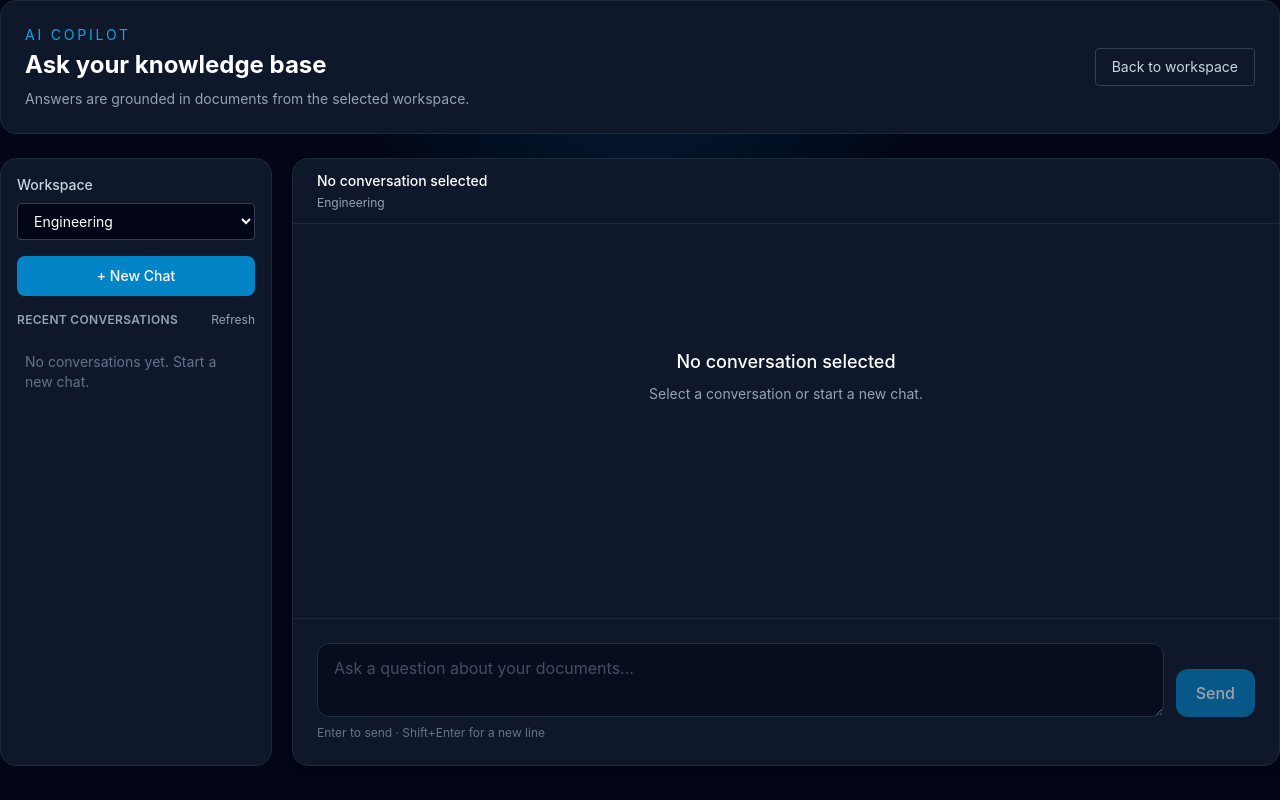
Test case: ChatPage › updates the sidebar title after the first question is answered
Click the button "+ New Chat": (136, 276) [17, 256, 255, 296]
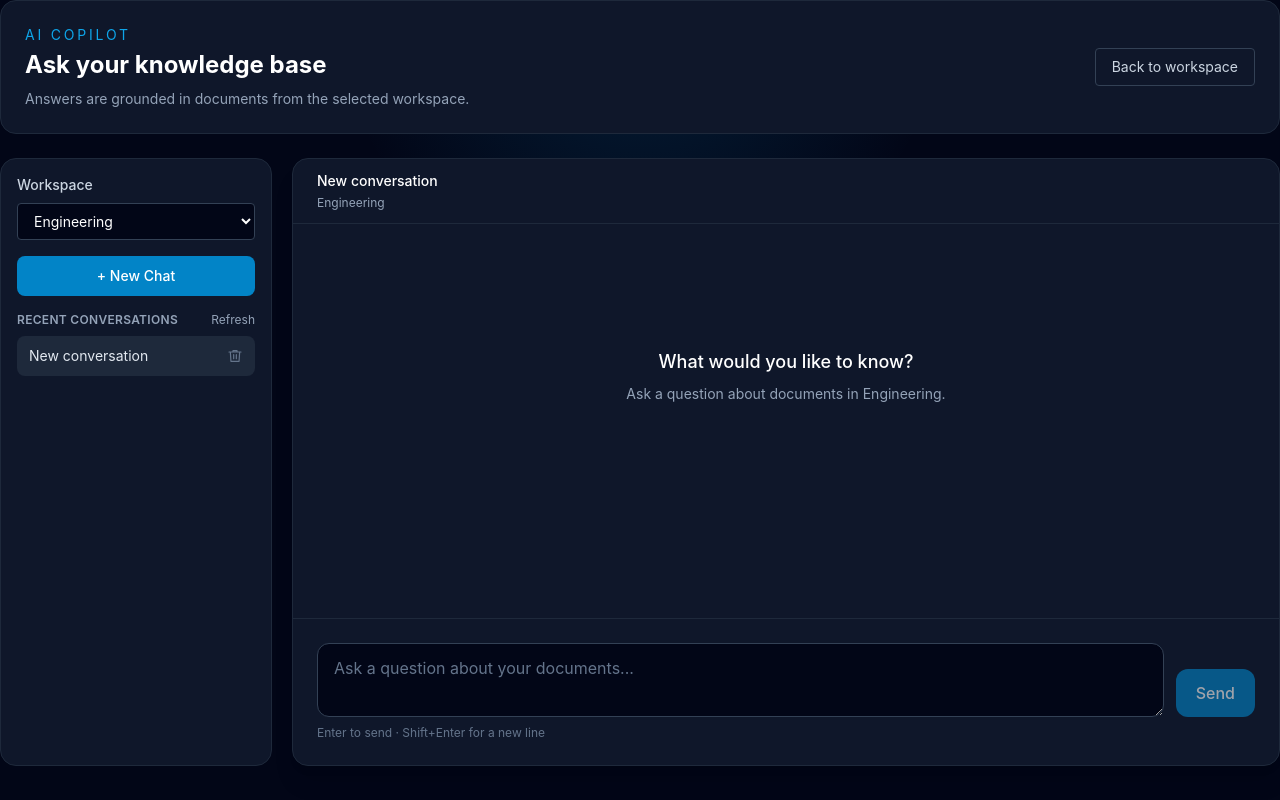
In the text box named "Your question": (740, 680) [317, 643, 1164, 717], type "Give me all the JS questions"
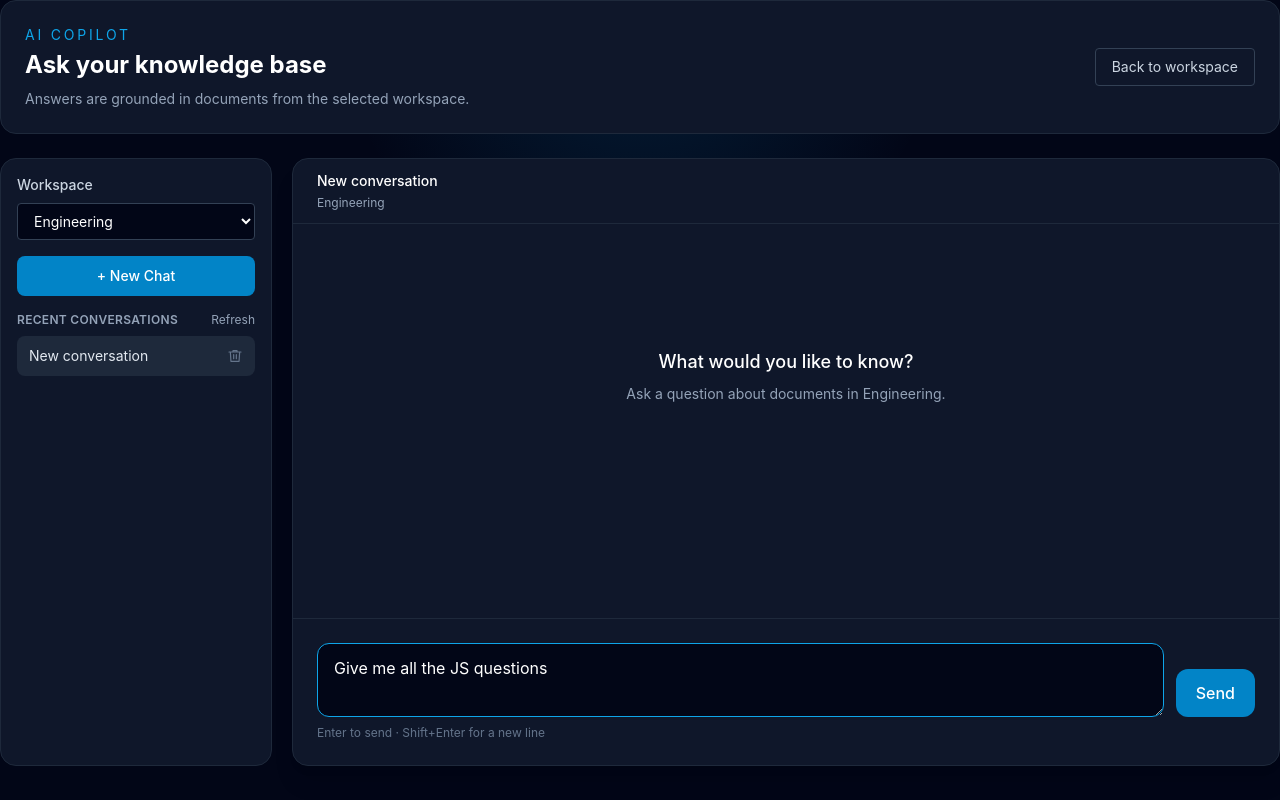
Click the button "Send": (1215, 693) [1176, 669, 1255, 717]
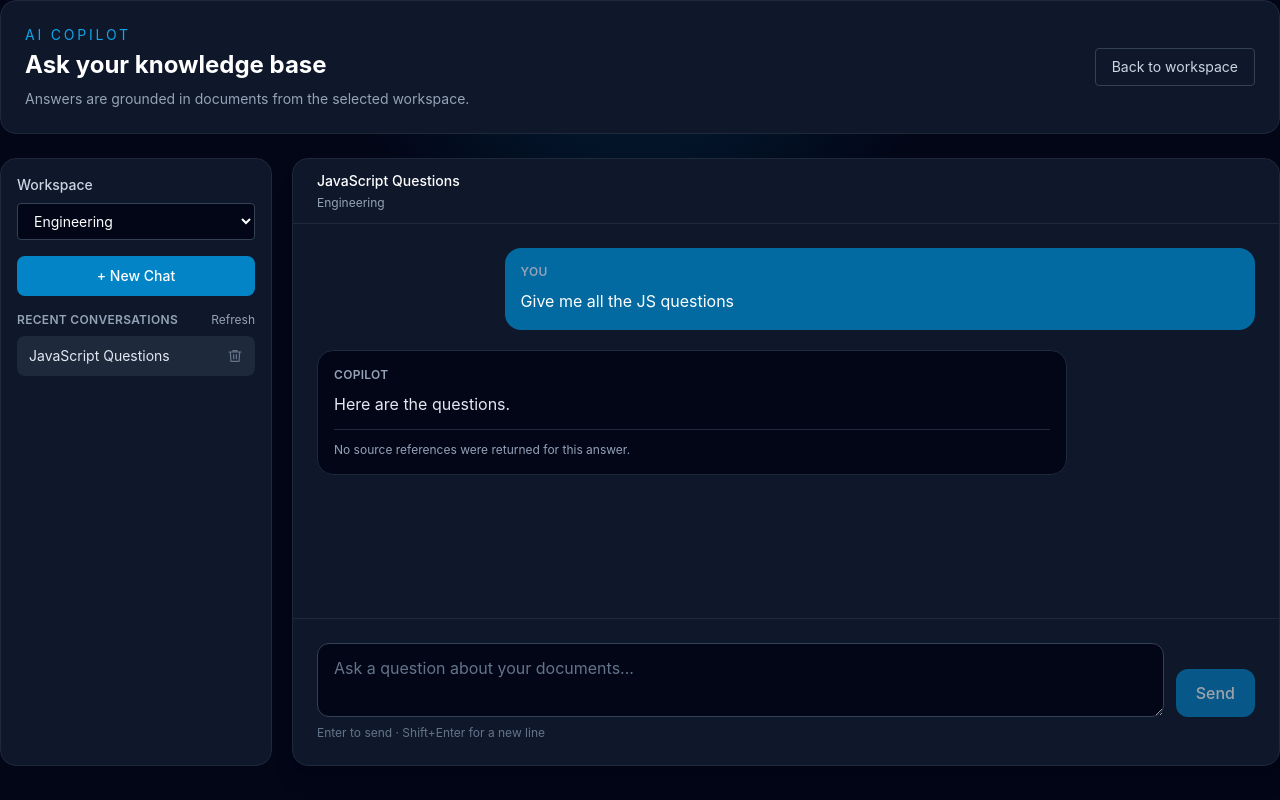
Expected: the button "JavaScript Questions" is shown, [17, 336, 215, 376]
